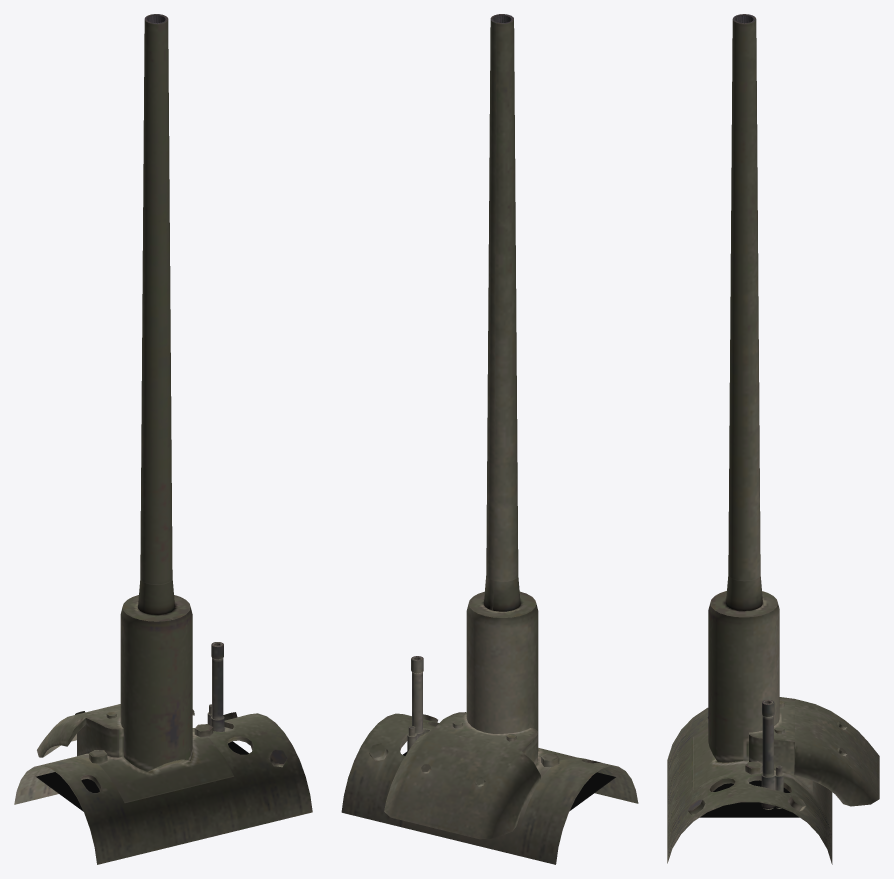
Rendered from Gun_08.glb.
The picture shows the model from 3 angles, left to right: view 1: azimuth 30°, elevation 25°; view 2: azimuth 150°, elevation 25°; view 3: azimuth 270°, elevation 25°; orthographic projection.
Visible parts, largest first — view 1: set_0_group_0; view 2: set_0_group_0; view 3: set_0_group_0.
Part boxes in pixels (x1,y1,x2,y2): set_0_group_0: [14, 14, 312, 864]; set_0_group_0: [341, 14, 638, 864]; set_0_group_0: [667, 14, 879, 864].
Size of the model in its own units: 0.4925 by 1.73 by 0.4223.
1 material, 1 textured.
